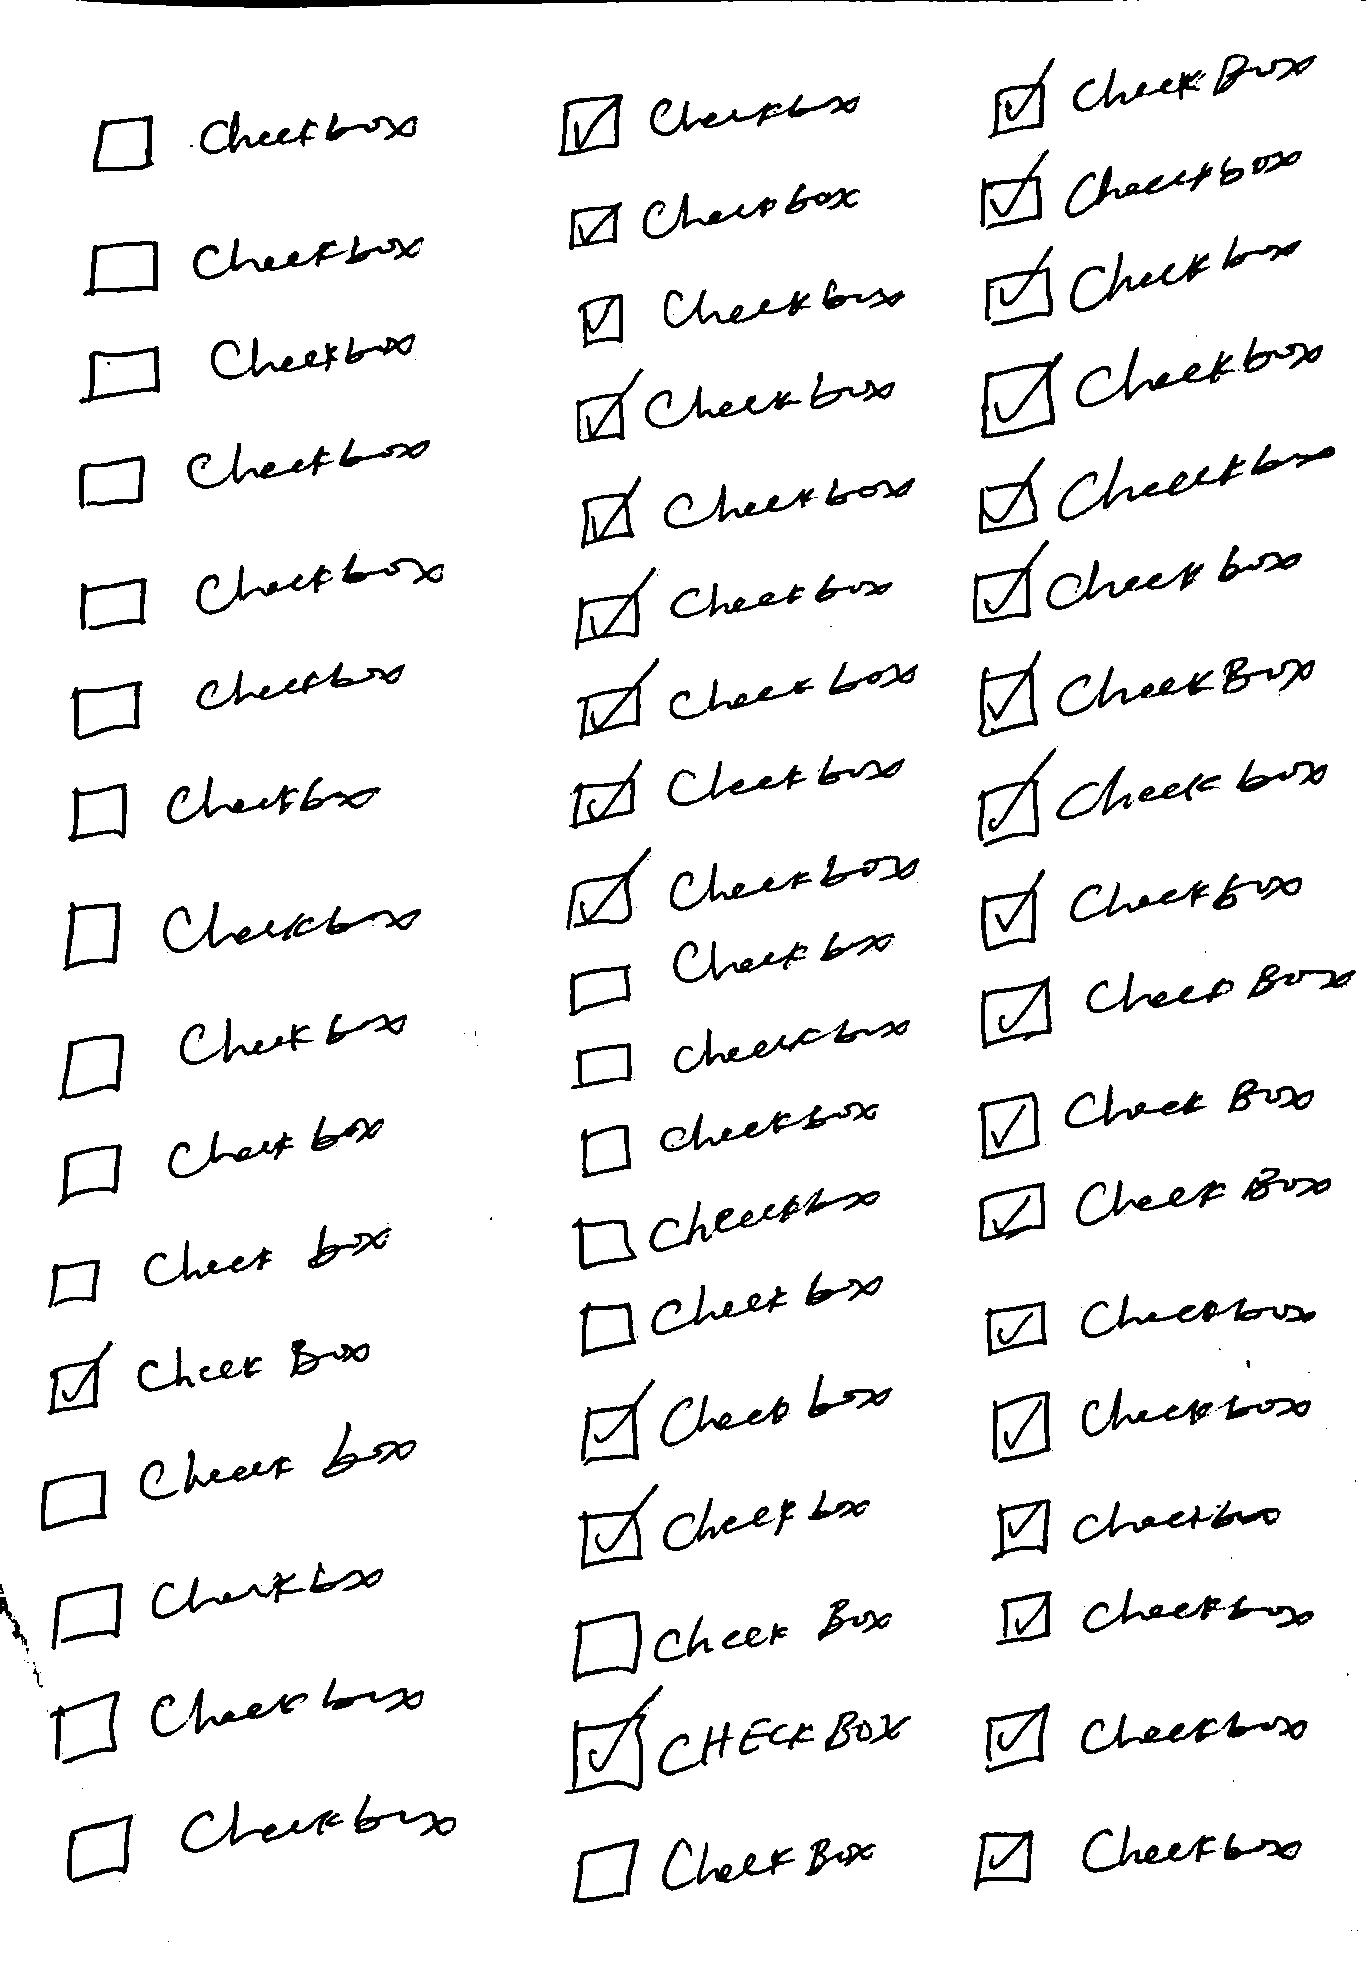Check Box: (37, 1422, 420, 1534), (567, 1686, 914, 1798), (64, 1789, 458, 1885), (978, 333, 1327, 440), (973, 745, 1330, 849), (976, 961, 1359, 1051), (54, 1674, 428, 1766), (975, 642, 1315, 742), (57, 1007, 408, 1104), (973, 446, 1339, 537), (987, 45, 1320, 143), (576, 648, 920, 742), (76, 548, 446, 634), (48, 1557, 387, 1651), (57, 1110, 384, 1207), (576, 1372, 896, 1470), (982, 231, 1306, 328), (45, 1224, 391, 1313), (972, 537, 1308, 628), (567, 925, 897, 1018), (978, 1075, 1320, 1163), (75, 431, 437, 513), (570, 1595, 894, 1686), (572, 563, 896, 651), (975, 1166, 1335, 1245), (578, 469, 917, 552), (979, 867, 1306, 954), (76, 327, 418, 409), (60, 898, 425, 975), (572, 363, 899, 448), (978, 146, 1302, 231), (576, 1270, 884, 1360), (570, 1013, 911, 1092), (576, 1482, 872, 1573), (72, 661, 405, 742), (575, 1185, 884, 1272), (46, 1334, 372, 1416), (578, 1094, 882, 1179), (81, 228, 431, 301), (988, 1386, 1312, 1466), (575, 276, 908, 351), (981, 1701, 1309, 1776), (64, 775, 384, 848), (87, 107, 422, 176), (567, 1831, 876, 1904), (566, 178, 860, 254), (554, 90, 863, 160), (984, 1294, 1320, 1357), (970, 1827, 1306, 1889), (993, 1586, 1317, 1651), (991, 1497, 1279, 1563)
